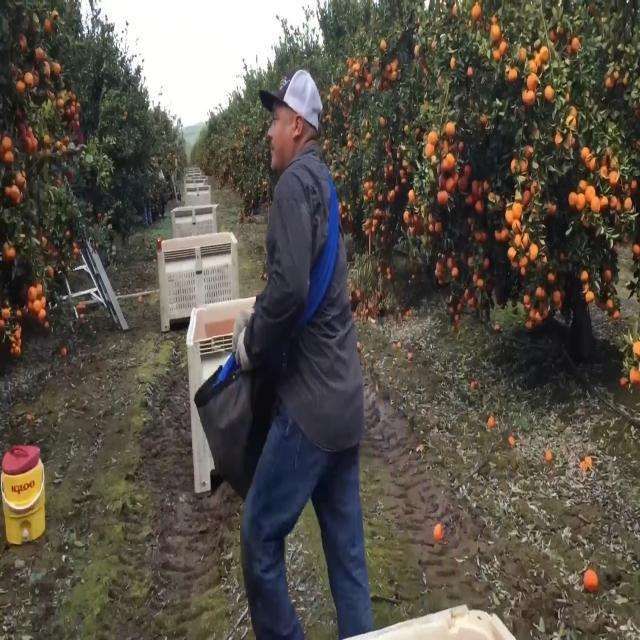Jeruk Sudah Matang: (528, 242, 540, 262), (437, 188, 448, 206), (584, 186, 596, 202), (526, 74, 538, 90), (544, 85, 555, 102), (568, 190, 577, 210), (576, 192, 586, 210), (512, 200, 521, 220), (536, 285, 546, 302), (512, 218, 522, 234), (444, 122, 454, 138), (508, 68, 518, 82), (581, 144, 589, 161), (546, 271, 556, 284), (501, 228, 510, 242), (585, 290, 595, 302), (450, 265, 460, 277), (604, 268, 612, 282), (580, 270, 589, 282)
